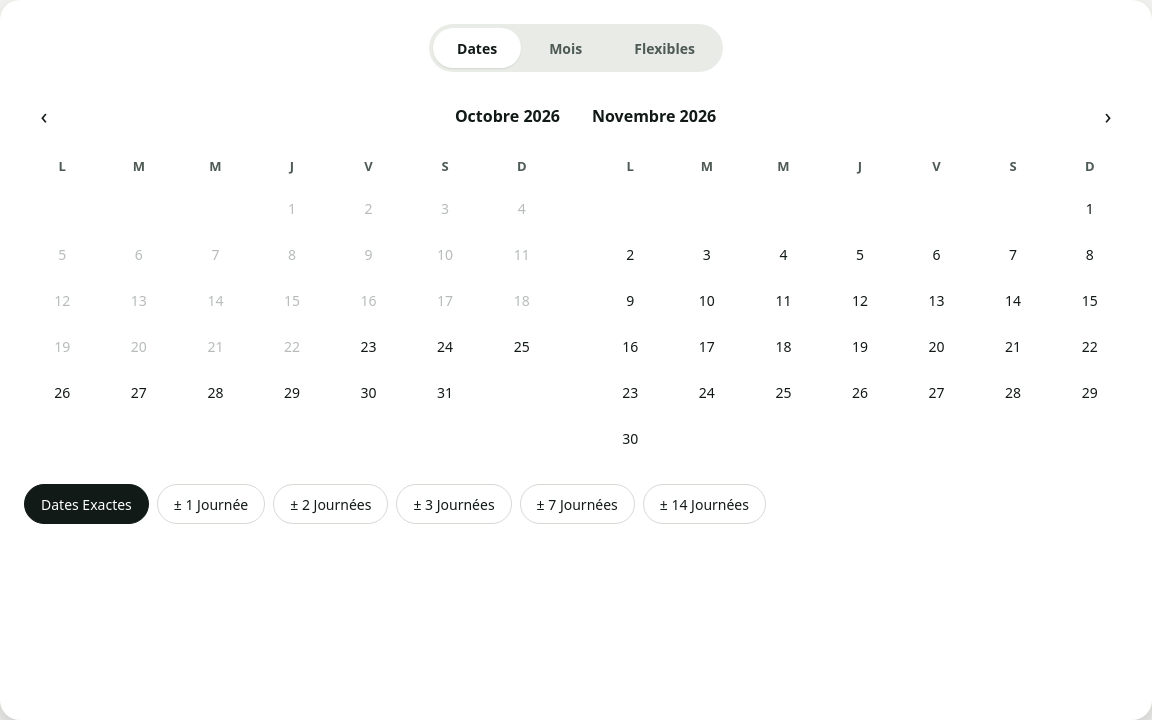
Test: DatePickerPanel « Mois » mode › no longer shows a « à venir » placeholder and offers months and durations
Click the button "Mois" at (566, 48), box x1=525 y1=28 x2=606 y2=68
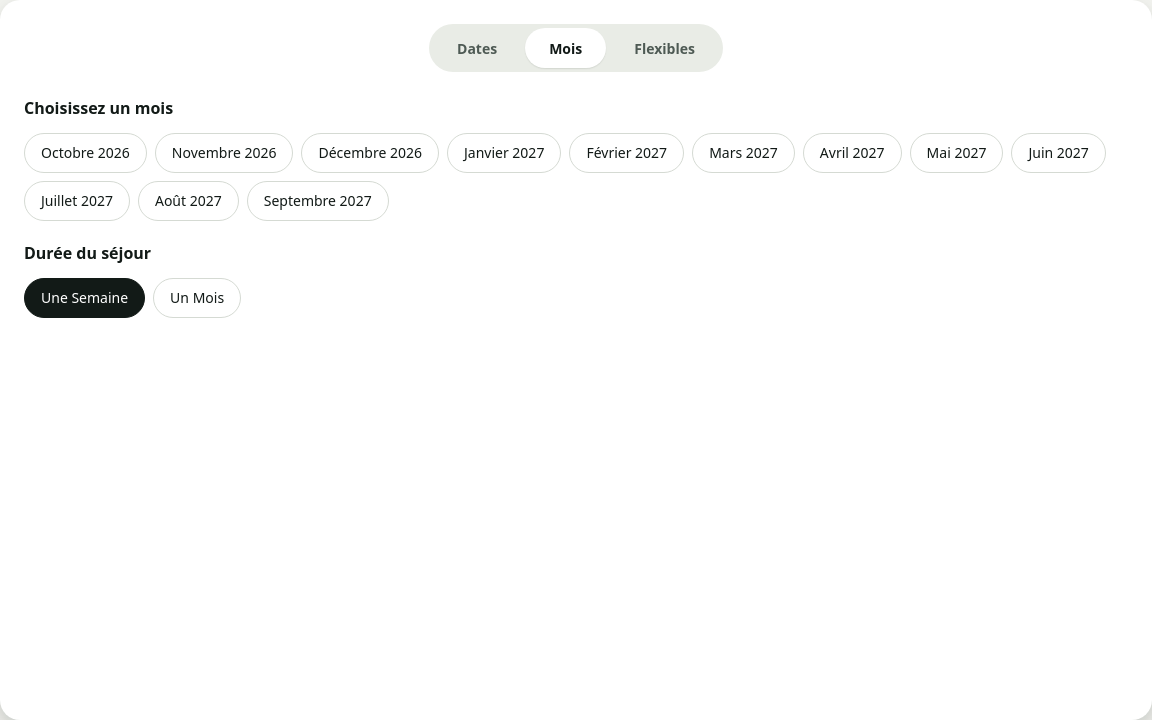
Now the element named "Choisissez un mois" is shown, box x1=24 y1=133 x2=1128 y2=221
Now the button "Un mois" is shown, box x1=153 y1=278 x2=241 y2=318
